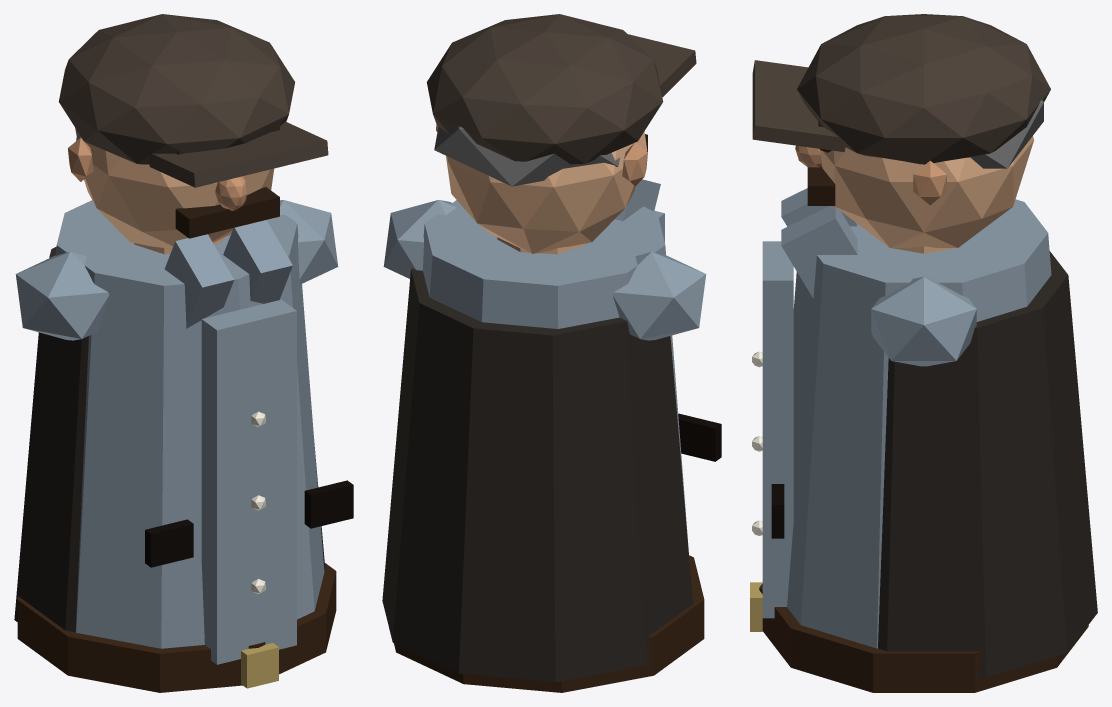
The model's file is insan_e1_govde.glb.
3 renders of one model, left to right at view 1: azimuth 30°, elevation 25°; view 2: azimuth 150°, elevation 25°; view 3: azimuth 270°, elevation 25°, orthographic.
Visible parts, largest first — view 1: Cone; view 2: Cone; view 3: Cone.
Boxes of the visible parts, x1,y1,x2,y2 form: Cone: (14, 14, 353, 692); Cone: (382, 14, 721, 692); Cone: (750, 14, 1097, 692).
Bounding box in the file's own units: 0.1158 × 0.2125 × 0.112.
